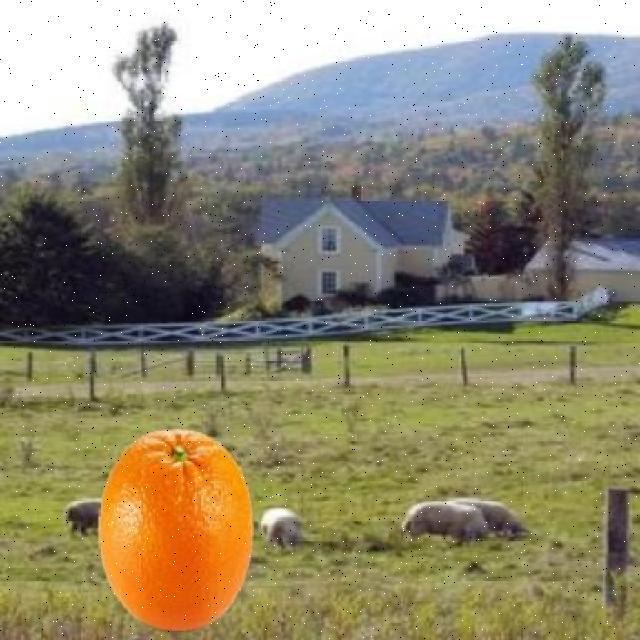Orange: (95, 426, 254, 632)
